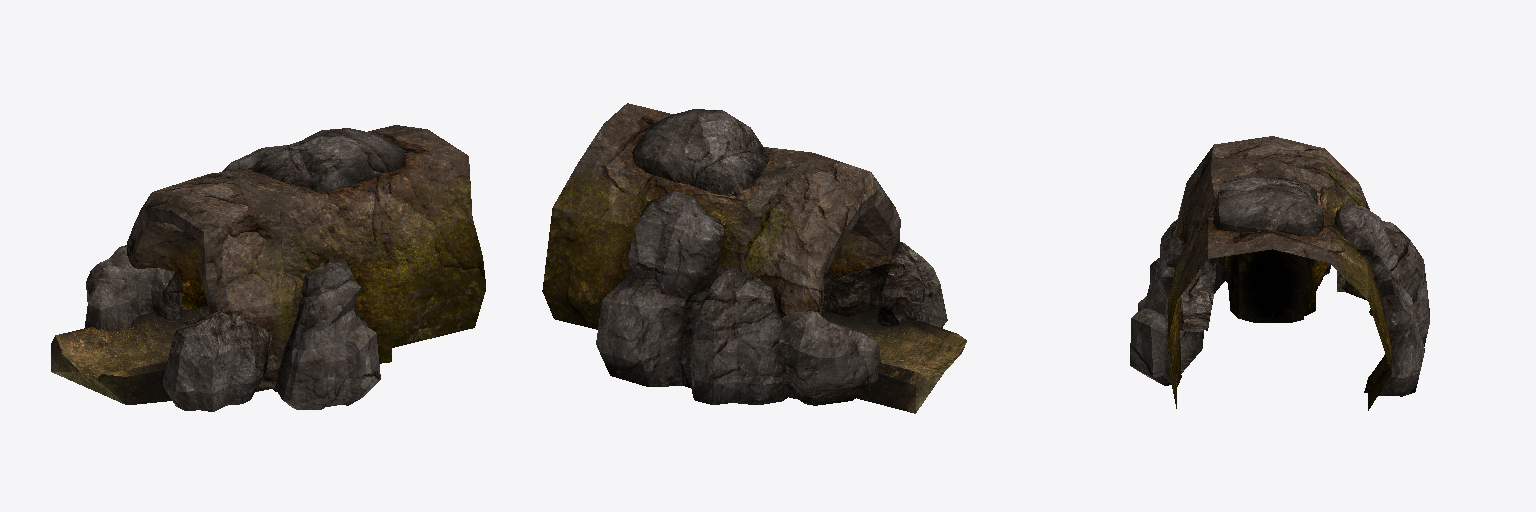
3 renders of one model, left to right at view 1: azimuth 30°, elevation 25°; view 2: azimuth 150°, elevation 25°; view 3: azimuth 270°, elevation 25°, orthographic.
Visible parts, largest first — view 1: cave; view 2: cave; view 3: cave.
Boxes of the visible parts, box(x1,y1,x2,y2) form: cave: box(51, 125, 485, 411); cave: box(542, 103, 966, 413); cave: box(1130, 136, 1429, 410).
Size of the model in its own units: 1036 by 606 by 762.
1 materials, 1 textured.